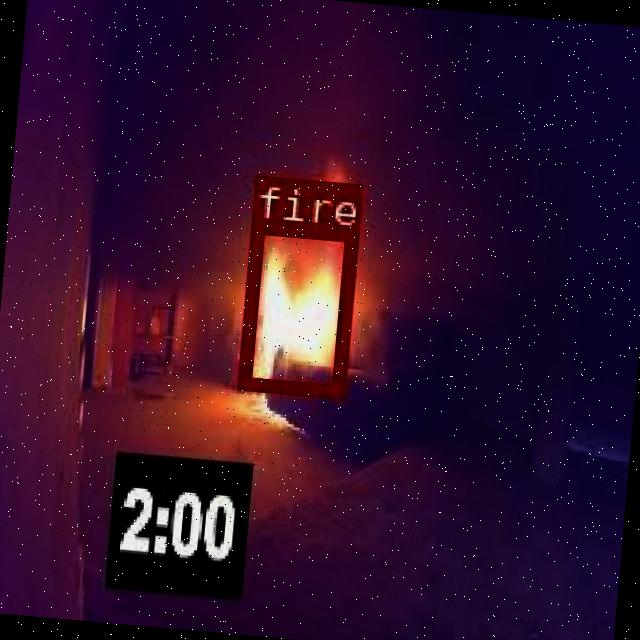fire: (235, 218, 356, 396)
